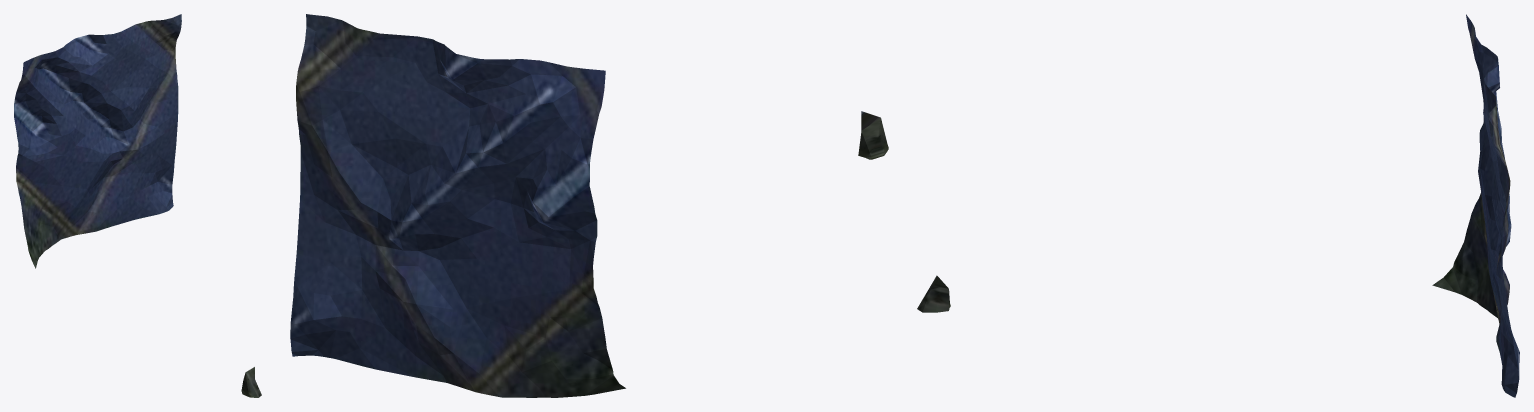
The model's file is tile_5_30_19_tex.obj.
The picture shows the model from 3 angles, left to right: view 1: azimuth 30°, elevation 25°; view 2: azimuth 150°, elevation 25°; view 3: azimuth 270°, elevation 25°; orthographic projection. The views are drawn at different scales.
Visible parts, largest first — view 1: obj_0; view 2: obj_0; view 3: obj_0.
Boxes of the visible parts, box(x1,y1,x2,y2) form: obj_0: box(14, 14, 261, 397); obj_0: box(290, 14, 888, 397); obj_0: box(917, 14, 1519, 397).
Size of the model in its own units: 5.01 by 5.64 by 11.34.
Materials: 1 (1 with a texture image).
